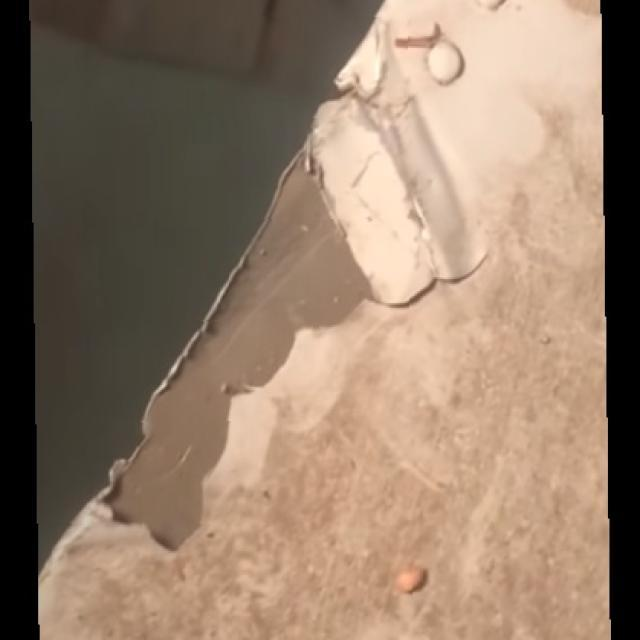crack: (380, 246, 521, 340)
